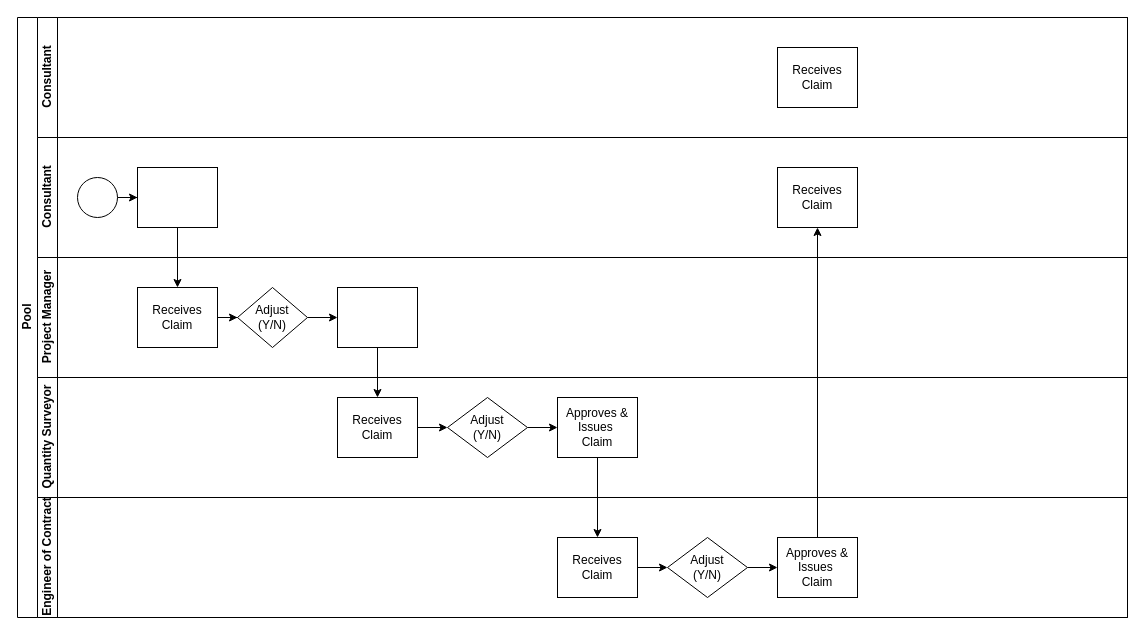
This 1145x635 diagram has some shape labels left out. Each missing label, with the centre of its shape:
"Compile Claim & Issue" goes at pixel 177 197.
"Initiate Claim" goes at pixel 97 197.
"Issues Claim" goes at pixel 377 317.
